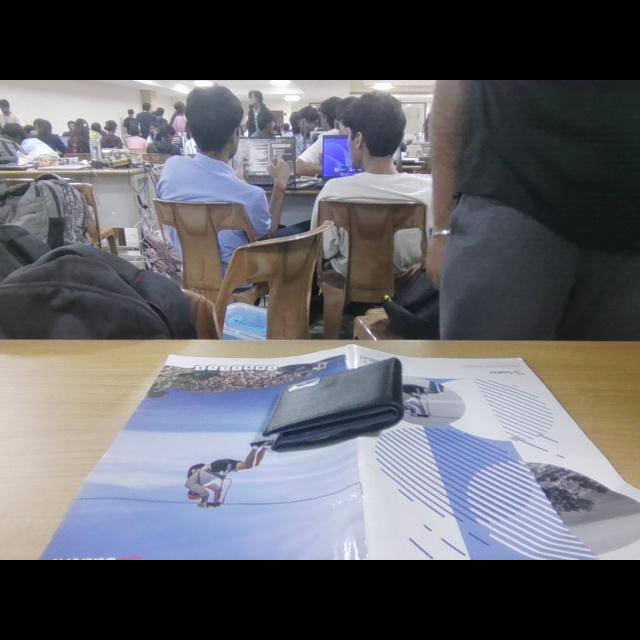wallet: (251, 356, 437, 450)
